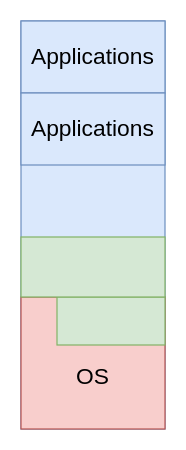
Some shapes in this 186 by 450 pixel diagram are drawn without their labels. The centre of each missing label's shape, as x and y in pixels:
"ADT,IDT,etc." goes at point (92, 266).
"mem_map" goes at point (110, 320).
